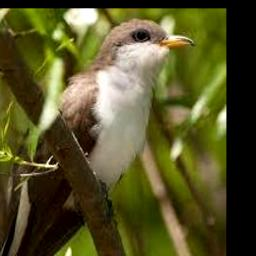Cuckoo: (0, 18, 196, 256)
